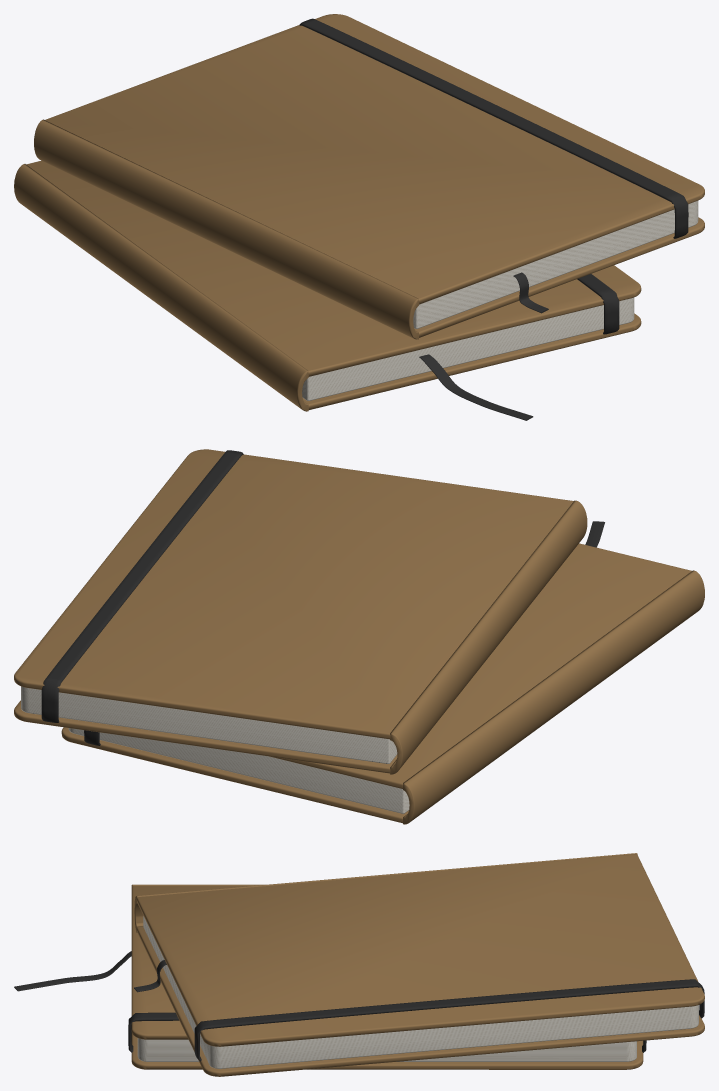
The model's file is dot-grid-notebook-a5.glb.
The picture shows the model from 3 angles, top to bottom: view 1: azimuth 30°, elevation 25°; view 2: azimuth 150°, elevation 25°; view 3: azimuth 270°, elevation 25°; orthographic projection. The views are drawn at different scales.
Visible parts, largest first — view 1: notebook-cover (×4), notebook-spine (×2), notebook-pages (×2), notebook-band (×2), notebook-ribbon; view 2: notebook-cover (×4), notebook-spine (×2), notebook-pages (×2), notebook-band; view 3: notebook-cover (×4), notebook-pages (×2), notebook-band (×2), notebook-spine, notebook-ribbon.
Part boxes in pixels (x1,y1,x2,y2): notebook-cover (×4): [26, 14, 704, 409]; notebook-spine (×2): [14, 119, 418, 411]; notebook-pages (×2): [302, 200, 698, 400]; notebook-band (×2): [299, 18, 688, 334]; notebook-ribbon: [419, 354, 533, 420]; notebook-cover (×4): [14, 449, 691, 823]; notebook-spine (×2): [390, 500, 704, 824]; notebook-pages (×2): [21, 686, 409, 813]; notebook-band: [41, 450, 243, 722]; notebook-cover (×4): [131, 854, 704, 1076]; notebook-pages (×2): [137, 916, 698, 1068]; notebook-band (×2): [128, 979, 704, 1061]; notebook-spine: [134, 853, 637, 932]; notebook-ribbon: [14, 951, 131, 991].
Bounding box in the file's own units: 0.1939 × 0.0355 × 0.2837.
4 materials, 1 textured.
